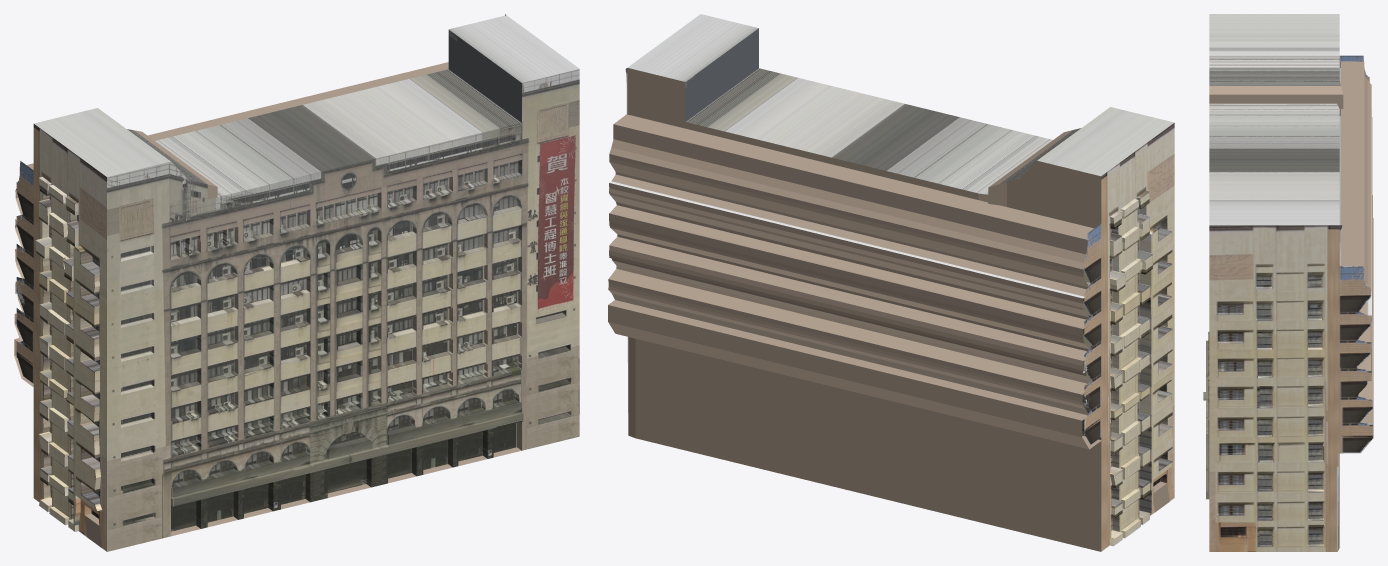
3 views of the same model, side by side, from view 1: azimuth 30°, elevation 25°; view 2: azimuth 150°, elevation 25°; view 3: azimuth 270°, elevation 25° (orthographic). The views are drawn at different scales.
Parts seen in each view (by area): view 1: 紅葉樓 (2); view 2: 紅葉樓 (2); view 3: 紅葉樓 (2).
Boxes of the visible parts, x1,y1,x2,y2 form: 紅葉樓 (2): (14,14,579,551); 紅葉樓 (2): (608,14,1174,551); 紅葉樓 (2): (1203,14,1373,551).
Bounding box in the file's own units: 1.33 × 0.9903 × 0.4597.
Materials: 3 (1 with a texture image).
